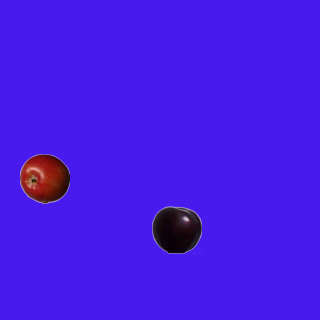Apple Braeburn: (19, 153, 69, 203)
Cherry Wax Black: (151, 204, 201, 254)
